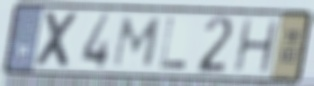2: (194, 14, 235, 75)
4: (78, 11, 112, 72)
H: (231, 17, 281, 76)
L: (157, 16, 189, 71)
M: (110, 14, 165, 70)
X: (32, 9, 83, 71)
